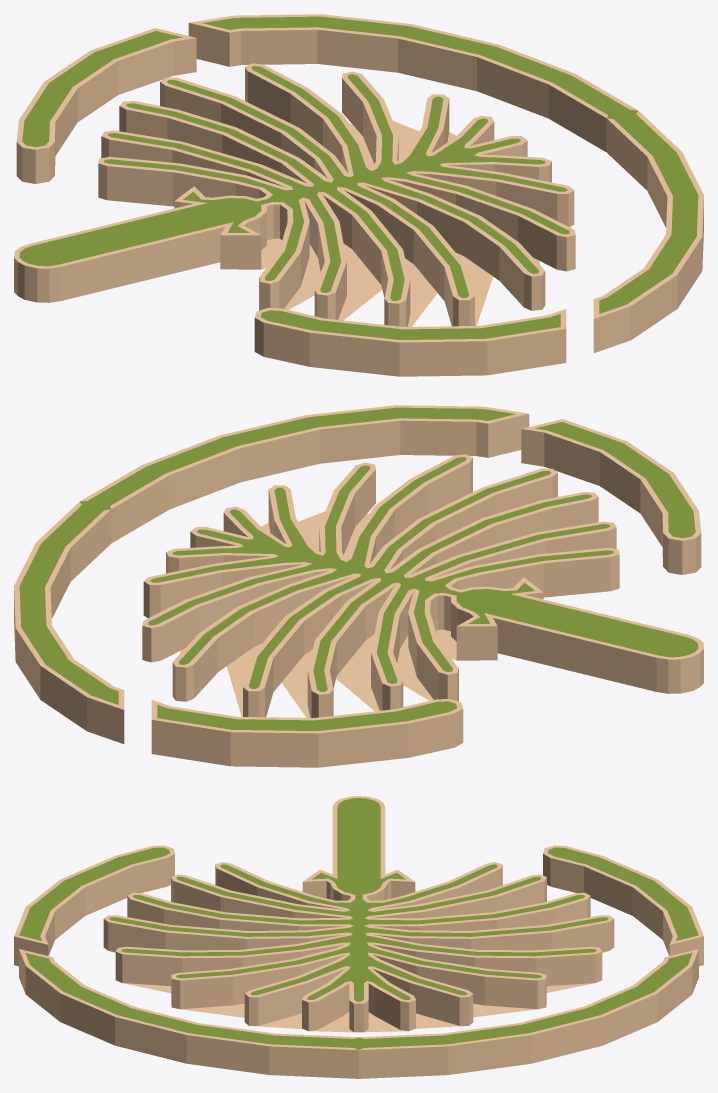
The model's file is palmJumeirah.FBX.
3 views of the same model, one above another, from view 1: azimuth 30°, elevation 25°; view 2: azimuth 150°, elevation 25°; view 3: azimuth 270°, elevation 25° (orthographic). The views are drawn at different scales.
Visible parts, largest first — view 1: palmJumeirah; view 2: palmJumeirah; view 3: palmJumeirah.
Part boxes in pixels (x1,y1,x2,y2): palmJumeirah: (14,14,703,376); palmJumeirah: (14,405,703,767); palmJumeirah: (14,796,703,1078).
Bounding box in the file's own units: 2.31 × 0.1219 × 2.65.
